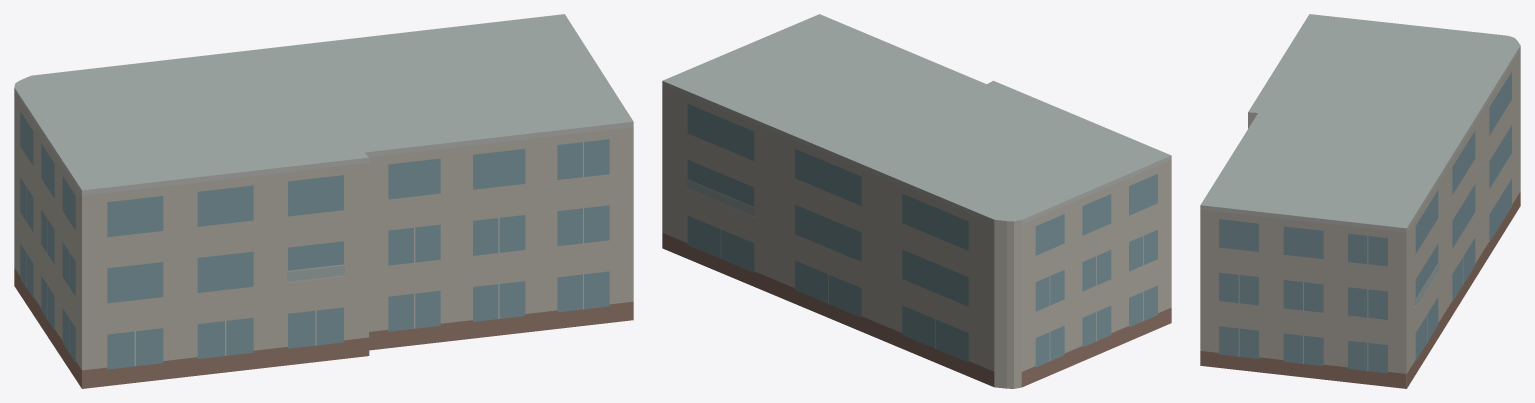
Rendered from survey-upis-32723449.glb.
3 views of the same model, side by side, from view 1: azimuth 30°, elevation 25°; view 2: azimuth 150°, elevation 25°; view 3: azimuth 270°, elevation 25° (orthographic). The views are drawn at different scales.
Visible parts, largest first — view 1: survey-upis-32723449.tmp; view 2: survey-upis-32723449.tmp; view 3: survey-upis-32723449.tmp.
Part boxes in pixels (left/top/right/bottom): survey-upis-32723449.tmp: left=14, top=14, right=633, bottom=388; survey-upis-32723449.tmp: left=662, top=14, right=1171, bottom=388; survey-upis-32723449.tmp: left=1200, top=14, right=1520, bottom=388.
Size of the model in its own units: 26.21 by 9.15 by 16.55.
